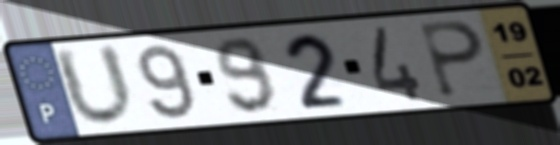2: (276, 27, 356, 115)
4: (371, 24, 424, 103)
9: (212, 34, 283, 116), (131, 42, 201, 121)
P: (416, 18, 488, 100)
U: (48, 41, 140, 130)
